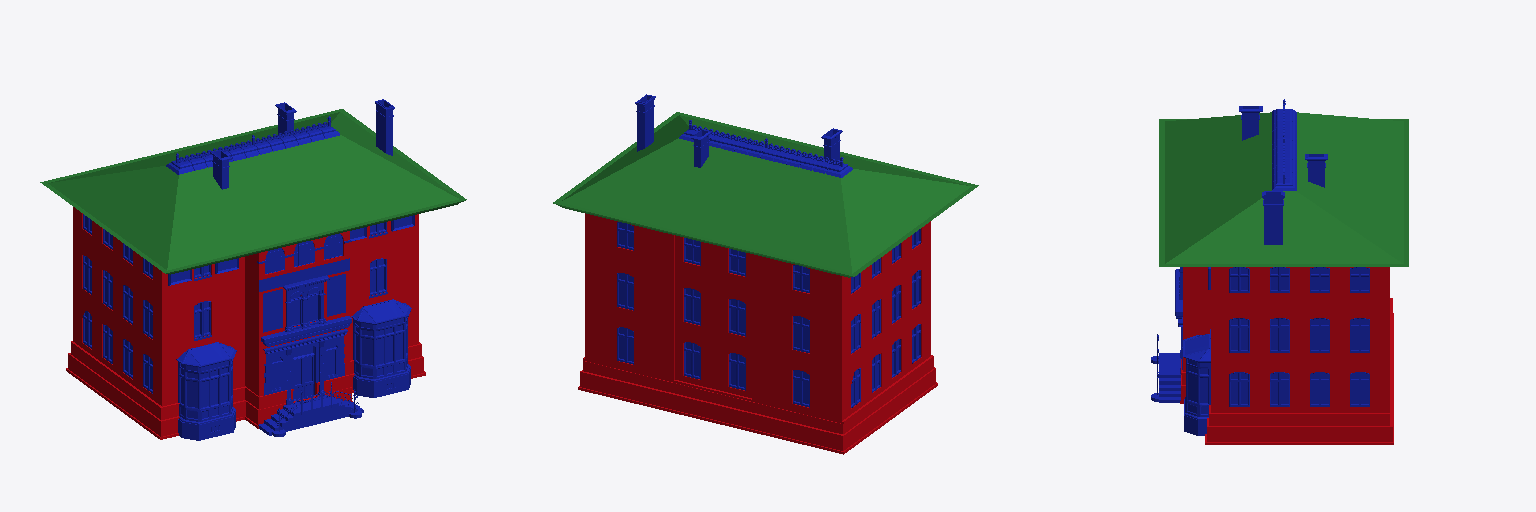
File: SM_Villa_Weber.obj
The picture shows the model from 3 angles: view 1: azimuth 30°, elevation 25°; view 2: azimuth 150°, elevation 25°; view 3: azimuth 270°, elevation 25°; orthographic projection.
Visible parts, largest first — view 1: Object025, Box001, Object009, Object033, Plane008, Object005, Box013, Object021, Object016, Box015, Object020, Plane004 (+3 smaller); view 2: Box001, Object025, Box013, Plane004, Object060, Object070, Object061, Object063, Object066, Object067, Object069, Object064 (+1 smaller); view 3: Object025, Box001, Object033, Box013, Object005, Plane004, Object054, Object058, Object048, Object050, Object052, Object055 (+5 smaller).
Part boxes in pixels (bbox=[...]): Object025: bbox=[40, 109, 466, 274]; Box001: bbox=[66, 207, 425, 439]; Object009: bbox=[176, 342, 236, 440]; Object033: bbox=[351, 299, 411, 397]; Plane008: bbox=[259, 258, 349, 332]; Object005: bbox=[258, 395, 363, 436]; Box013: bbox=[166, 124, 339, 174]; Object021: bbox=[264, 336, 344, 395]; Object016: bbox=[283, 275, 329, 331]; Box015: bbox=[261, 316, 351, 346]; Object020: bbox=[293, 354, 314, 401]; Plane004: bbox=[375, 99, 394, 155]; Box001: bbox=[578, 213, 937, 454]; Object025: bbox=[553, 112, 978, 277]; Box013: bbox=[679, 127, 852, 177]; Plane004: bbox=[635, 94, 655, 151]; Object060: bbox=[617, 273, 633, 310]; Object070: bbox=[684, 342, 700, 379]; Object061: bbox=[617, 327, 633, 364]; Object063: bbox=[793, 316, 809, 352]; Object066: bbox=[729, 299, 745, 336]; Object067: bbox=[729, 353, 745, 390]; Object069: bbox=[684, 288, 700, 325]; Object064: bbox=[793, 370, 809, 407]; Object025: bbox=[1159, 112, 1408, 266]; Box001: bbox=[1180, 267, 1393, 444]; Object033: bbox=[1183, 334, 1210, 435]; Box013: bbox=[1272, 109, 1296, 190]; Object005: bbox=[1151, 353, 1180, 402]; Plane004: bbox=[1262, 191, 1284, 244]; Object054: bbox=[1229, 318, 1249, 352]; Object058: bbox=[1229, 372, 1249, 406]; Object048: bbox=[1350, 318, 1369, 352]; Object050: bbox=[1310, 318, 1329, 352]; Object052: bbox=[1270, 318, 1289, 352]; Object055: bbox=[1350, 372, 1369, 406].
Size of the model in its own units: 1882 by 1479 by 1392.